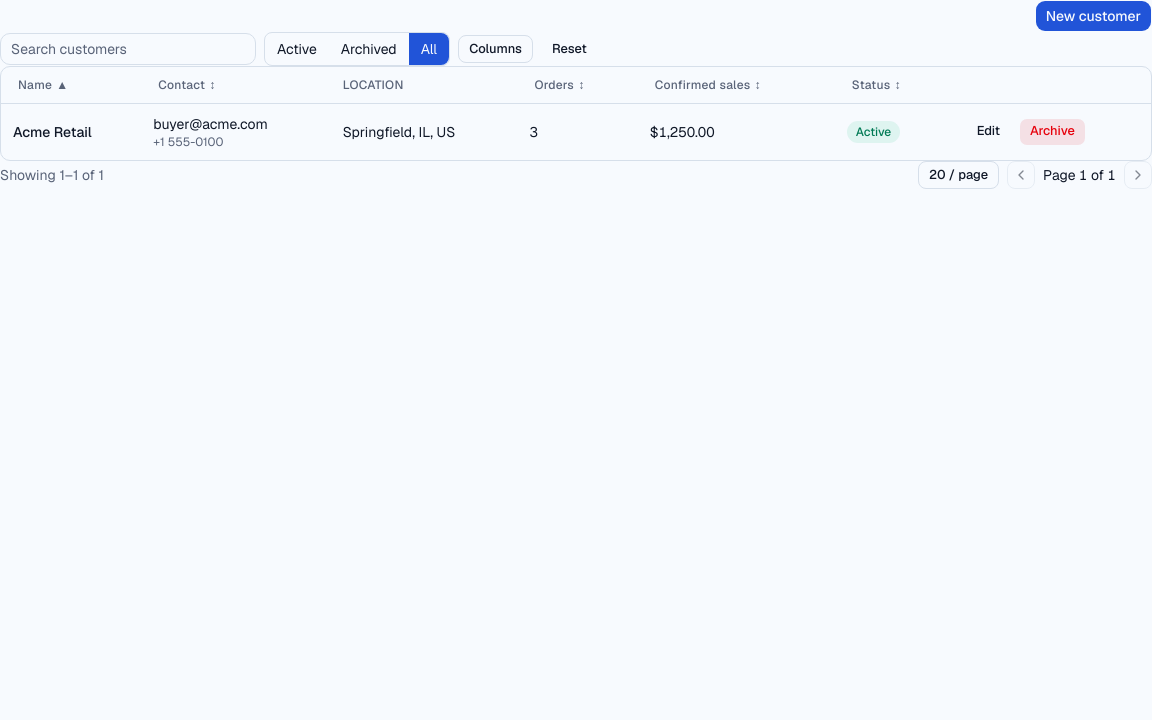
Test: CustomersGrid rendering › surfaces conflicts inline without closing the dialog
Click the button "Archive".
click(1052, 132)  # box [1019,118,1086,146]
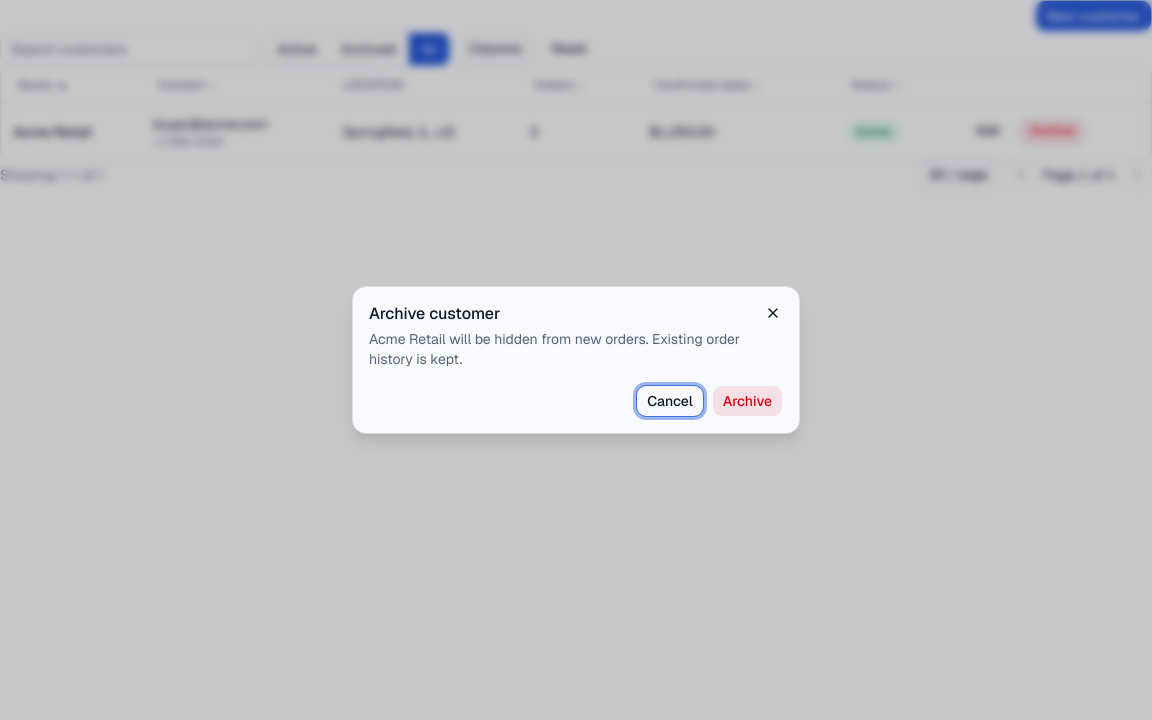
Click the button "Archive".
click(747, 401)  # box [712,385,783,417]
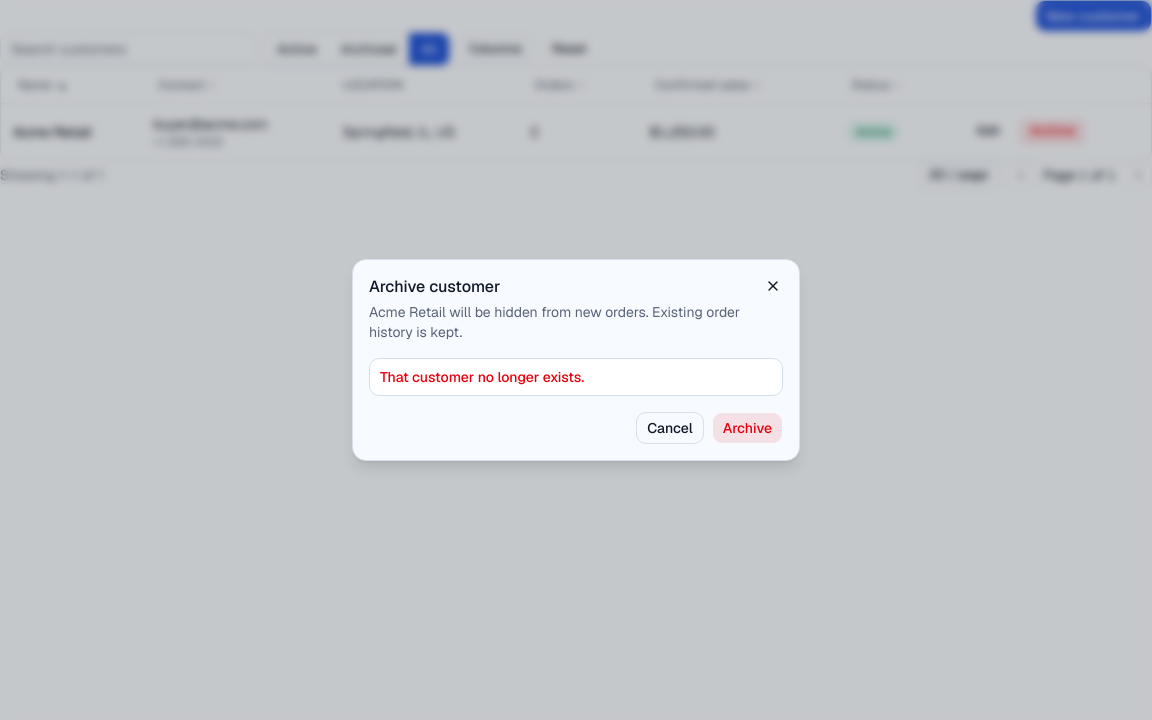
Now the dialog is shown, box [352,259,800,461]
Now the text "That customer no longer exists." is shown, box [380,368,584,386]
